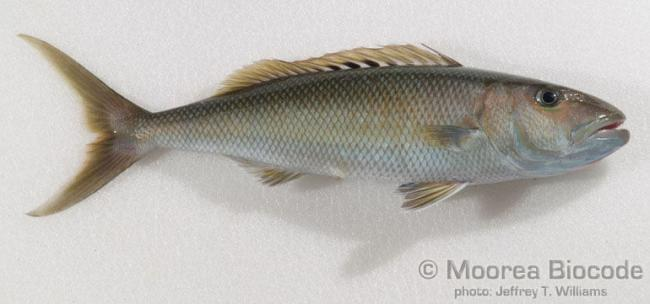fish: (18, 32, 632, 224)
